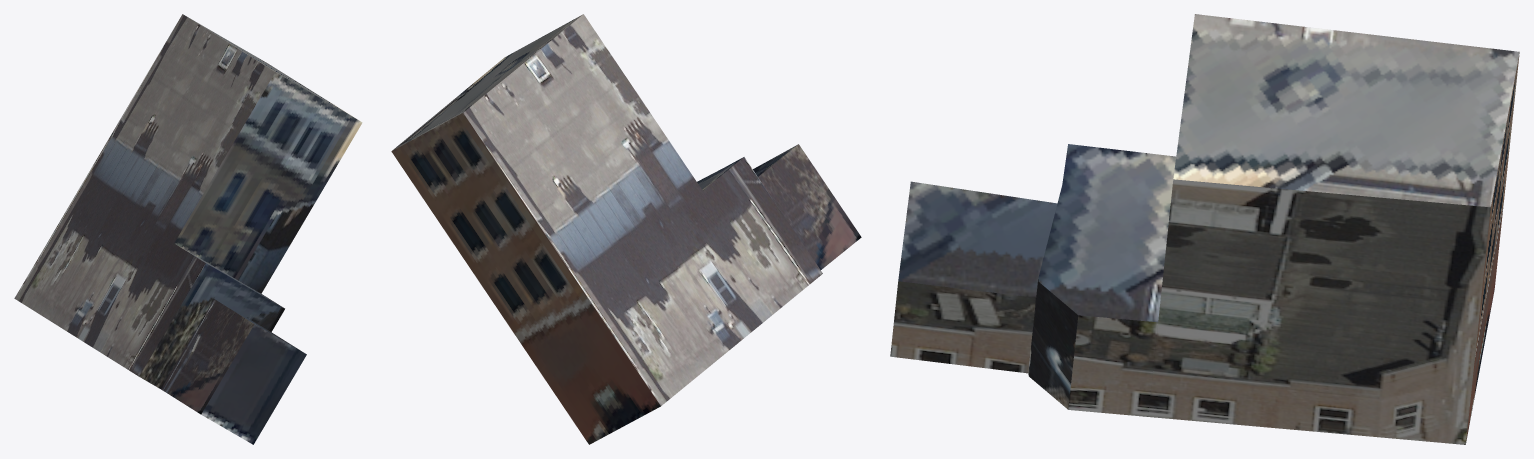
The picture shows the model from 3 angles, left to right: view 1: azimuth 30°, elevation 25°; view 2: azimuth 150°, elevation 25°; view 3: azimuth 270°, elevation 25°; orthographic projection. The views are drawn at different scales.
Parts seen in each view (by area): view 1: BAG_0599100000638395 (×3); view 2: BAG_0599100000638395 (×3); view 3: BAG_0599100000638395 (×3).
Boxes of the visible parts, <box> form: BAG_0599100000638395 (×3): <box>14,14,362,444</box>; BAG_0599100000638395 (×3): <box>391,14,861,444</box>; BAG_0599100000638395 (×3): <box>890,14,1519,444</box>.
Bounding box in the file's own units: 14.38 × 16.39 × 18.66.
1 material, 1 textured.
